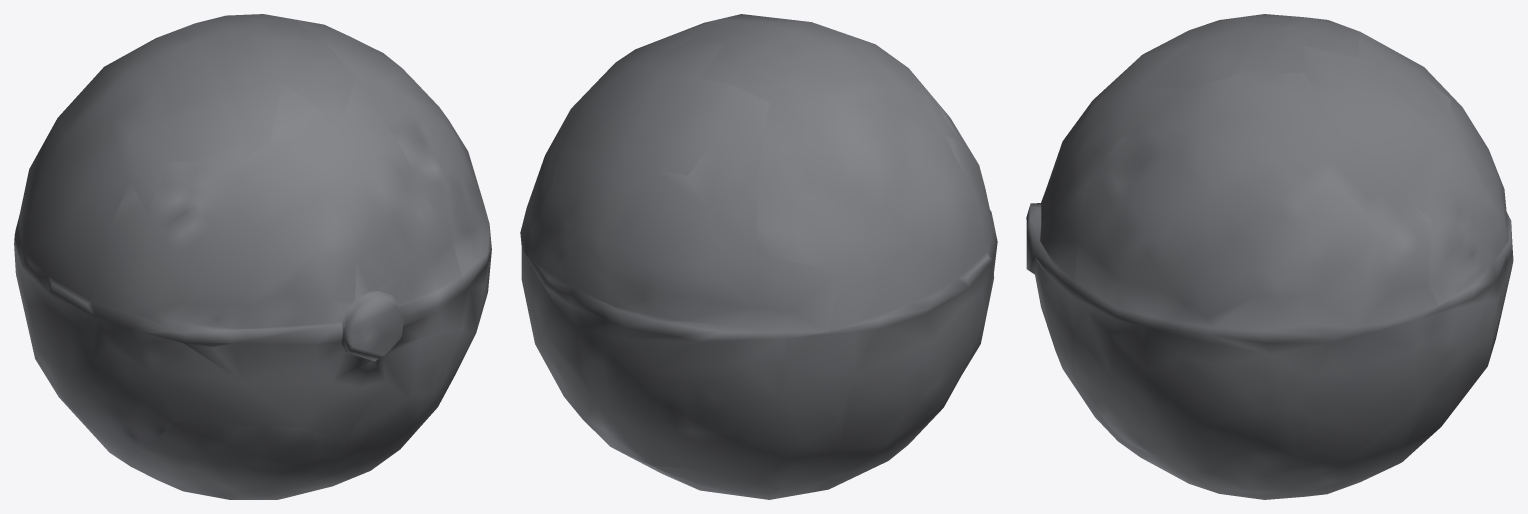
The picture shows the model from 3 angles, left to right: view 1: azimuth 30°, elevation 25°; view 2: azimuth 150°, elevation 25°; view 3: azimuth 270°, elevation 25°; orthographic projection.
Visible parts, largest first — view 1: Mesh_0.001; view 2: Mesh_0.001; view 3: Mesh_0.001.
Part boxes in pixels (left/top/right/bottom): Mesh_0.001: left=14, top=14, right=491, bottom=499; Mesh_0.001: left=520, top=14, right=997, bottom=499; Mesh_0.001: left=1026, top=14, right=1513, bottom=499.
Size of the model in its own units: 0.0589 by 0.06 by 0.0601.
Materials: 1 (1 with a texture image).
